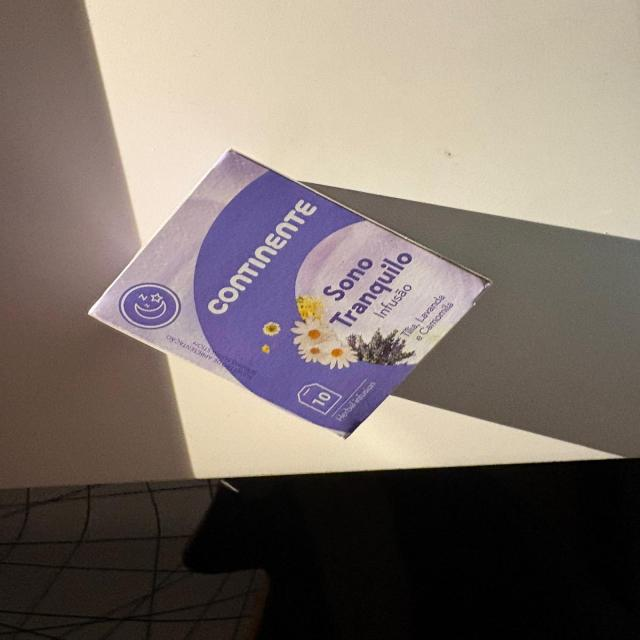good_package: (84, 150, 495, 442)
